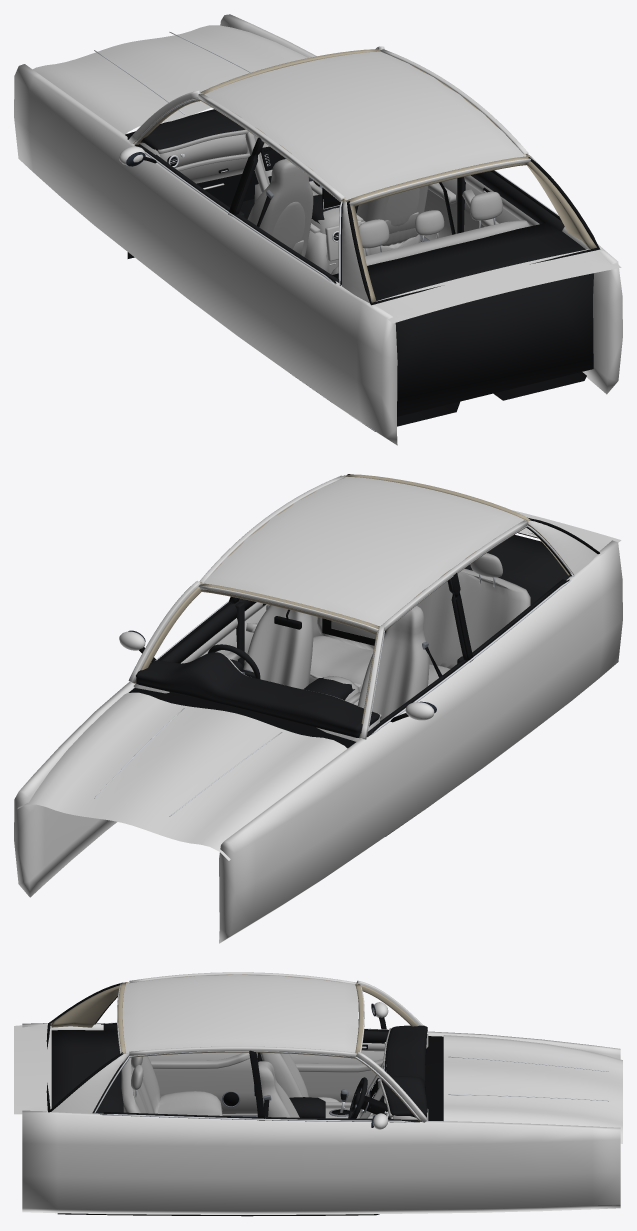
Rendered from gt_2004_interior.glb.
The picture shows the model from 3 angles, top to bottom: view 1: azimuth 30°, elevation 25°; view 2: azimuth 150°, elevation 25°; view 3: azimuth 270°, elevation 25°; orthographic projection. The views are drawn at different scales.
Visible parts, largest first — view 1: GT_mat_paint, GT_mat_soft_trim, GT_mat_hide, GT_mat_walnut, GT_mat_hard_trim, GT_mat_metal; view 2: GT_mat_paint, GT_mat_hide, GT_mat_soft_trim, GT_mat_hard_trim, GT_mat_metal, GT_mat_walnut; view 3: GT_mat_paint, GT_mat_hide, GT_mat_soft_trim, GT_mat_hard_trim, GT_mat_metal, GT_mat_walnut.
Boxes of the visible parts, box(x1,y1,x2,y2) form: GT_mat_paint: box(14, 14, 622, 445); GT_mat_soft_trim: box(127, 49, 596, 431); GT_mat_hide: box(140, 129, 529, 274); GT_mat_walnut: box(160, 134, 539, 261); GT_mat_hard_trim: box(125, 105, 600, 305); GT_mat_metal: box(94, 32, 558, 285); GT_mat_paint: box(14, 474, 622, 943); GT_mat_hide: box(133, 553, 530, 741); GT_mat_soft_trim: box(134, 474, 573, 836); GT_mat_hard_trim: box(128, 474, 599, 748); GT_mat_metal: box(94, 525, 574, 816); GT_mat_walnut: box(181, 602, 376, 691); GT_mat_paint: box(14, 972, 622, 1214); GT_mat_hide: box(121, 1028, 428, 1120); GT_mat_soft_trim: box(50, 974, 427, 1216); GT_mat_hard_trim: box(46, 982, 443, 1122); GT_mat_metal: box(94, 1003, 608, 1127); GT_mat_walnut: box(256, 1043, 392, 1118).
Bounding box in the file's own units: 2.43 × 1.57 × 5.16.
